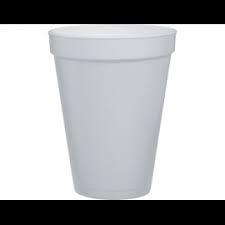Plastic cup: (44, 24, 192, 201)
